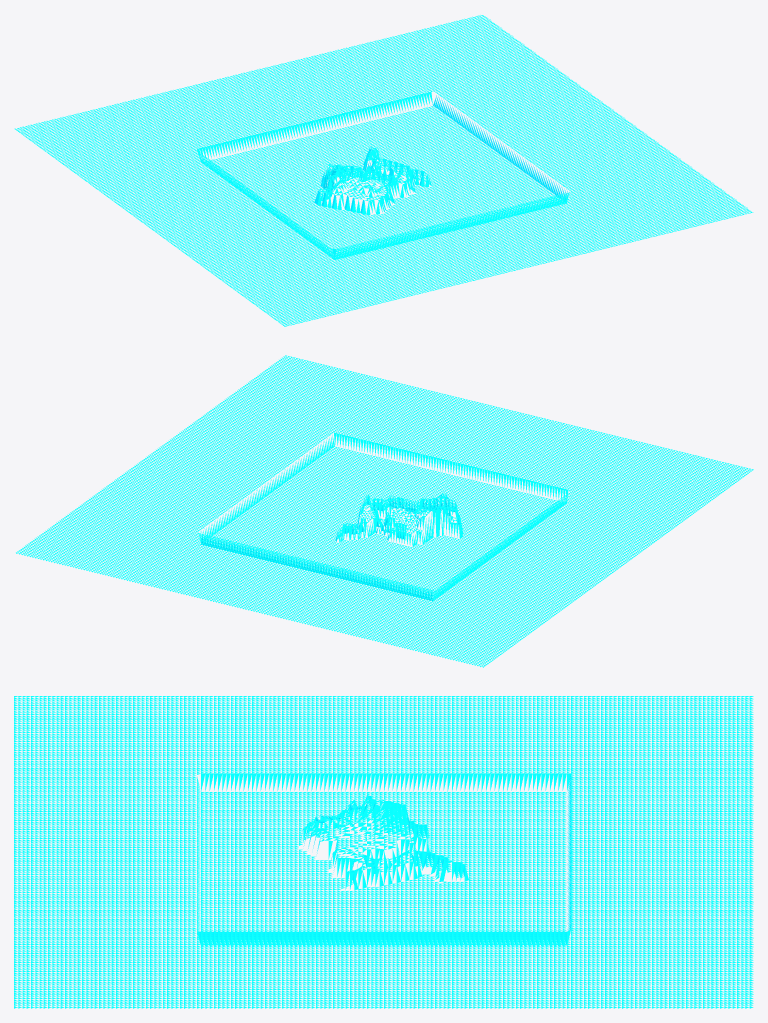
Rendered from Dock.glb.
3 views of the same model, one above another, from view 1: azimuth 30°, elevation 25°; view 2: azimuth 150°, elevation 25°; view 3: azimuth 270°, elevation 25° (orthographic). The views are drawn at different scales.
Visible parts, largest first — view 1: Terrain; view 2: Terrain; view 3: Terrain.
Boxes of the visible parts, x1,y1,x2,y2 form: Terrain: (14, 15, 753, 326); Terrain: (16, 355, 753, 667); Terrain: (14, 696, 753, 1008).
Size of the model in its own units: 798 by 45.26 by 798.
